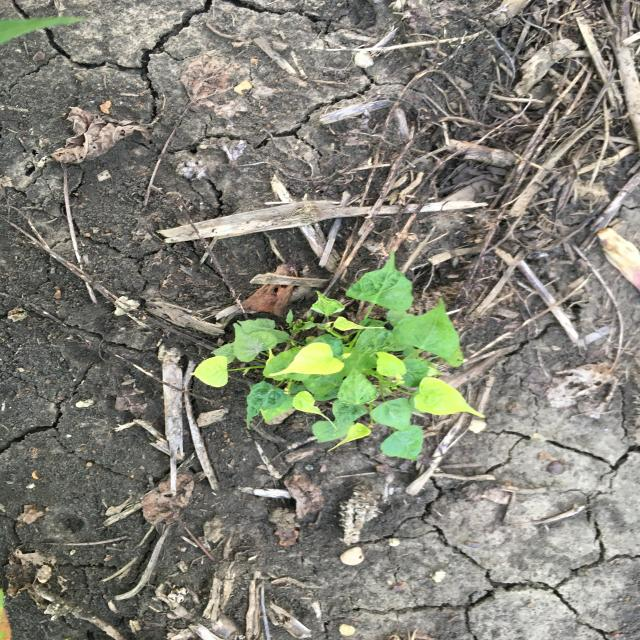MorningGlory: (187, 249, 488, 462)
